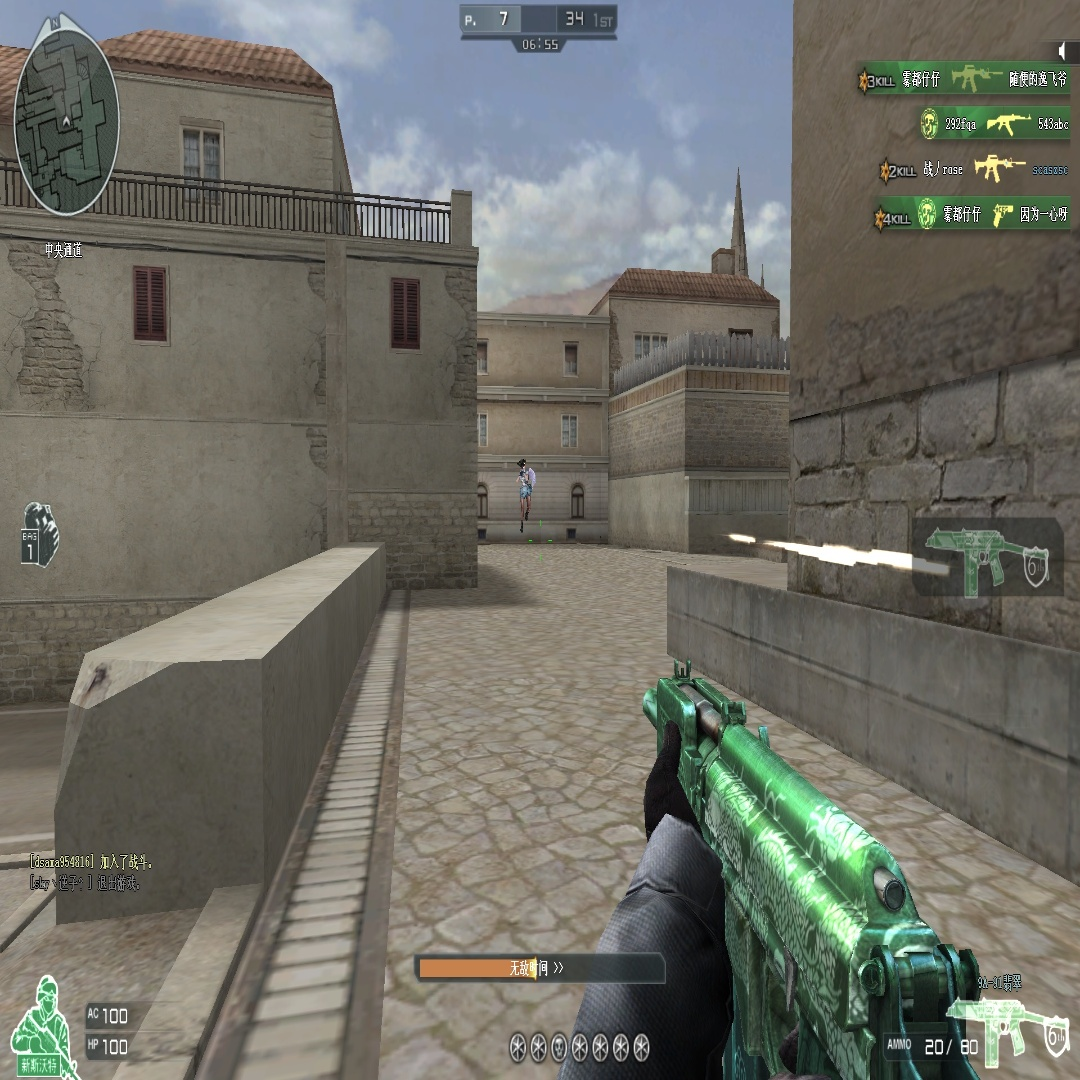head: (518, 459, 526, 472)
p: (518, 458, 535, 531)
